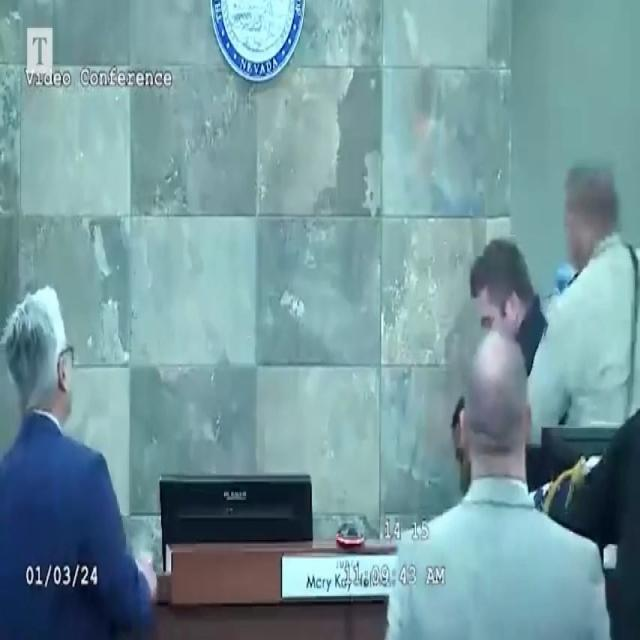fight: (454, 158, 640, 450)
non-fight: (373, 333, 618, 640), (0, 270, 157, 640)
